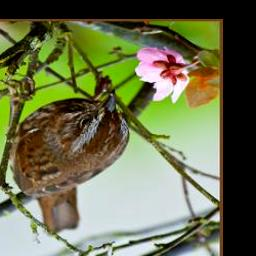Sparrow: (0, 74, 132, 237)
